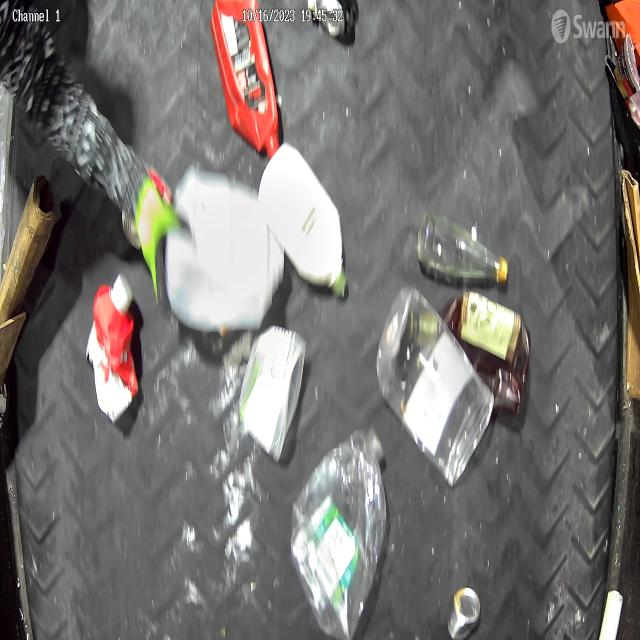can: (307, 0, 358, 46), (446, 586, 482, 640)
milk_jug: (166, 166, 286, 330)
non_white_jug: (209, 0, 280, 160), (85, 272, 139, 422)
plastic_bottle: (288, 424, 387, 640)
